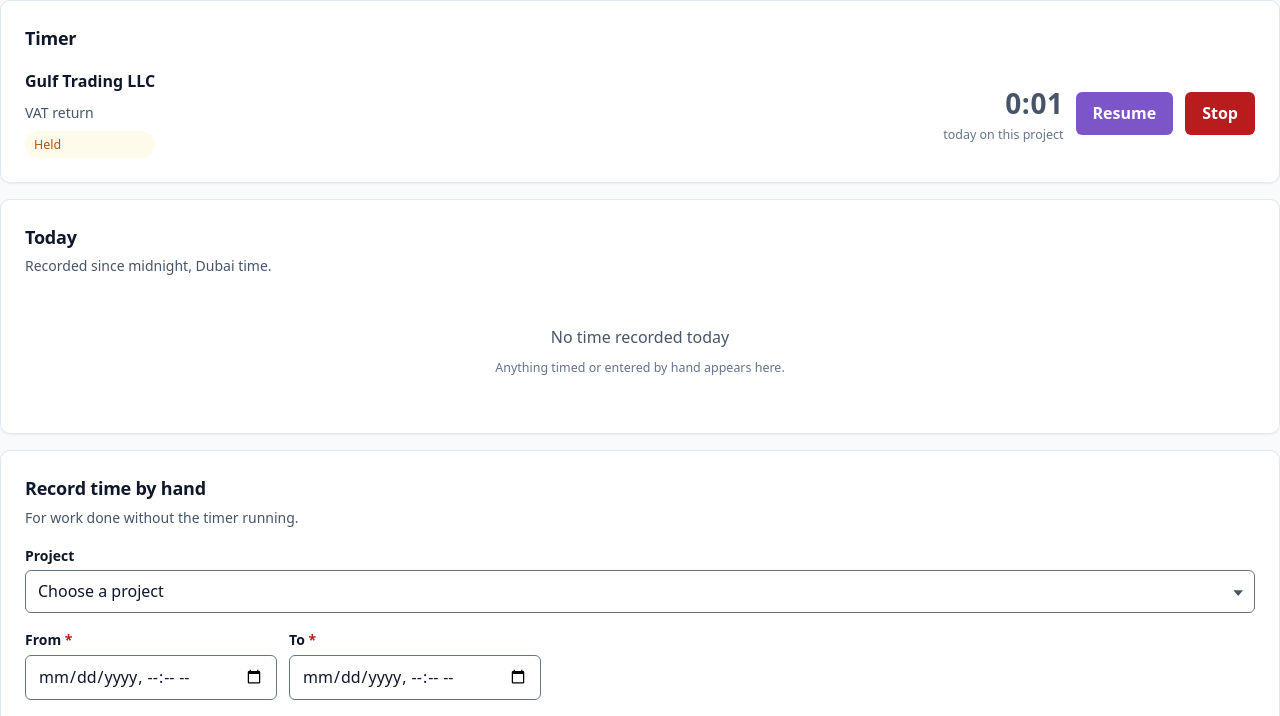
the timer screen › resumes through the server
Click the button "Resume" at (1124, 113), box [1076, 92, 1173, 135]
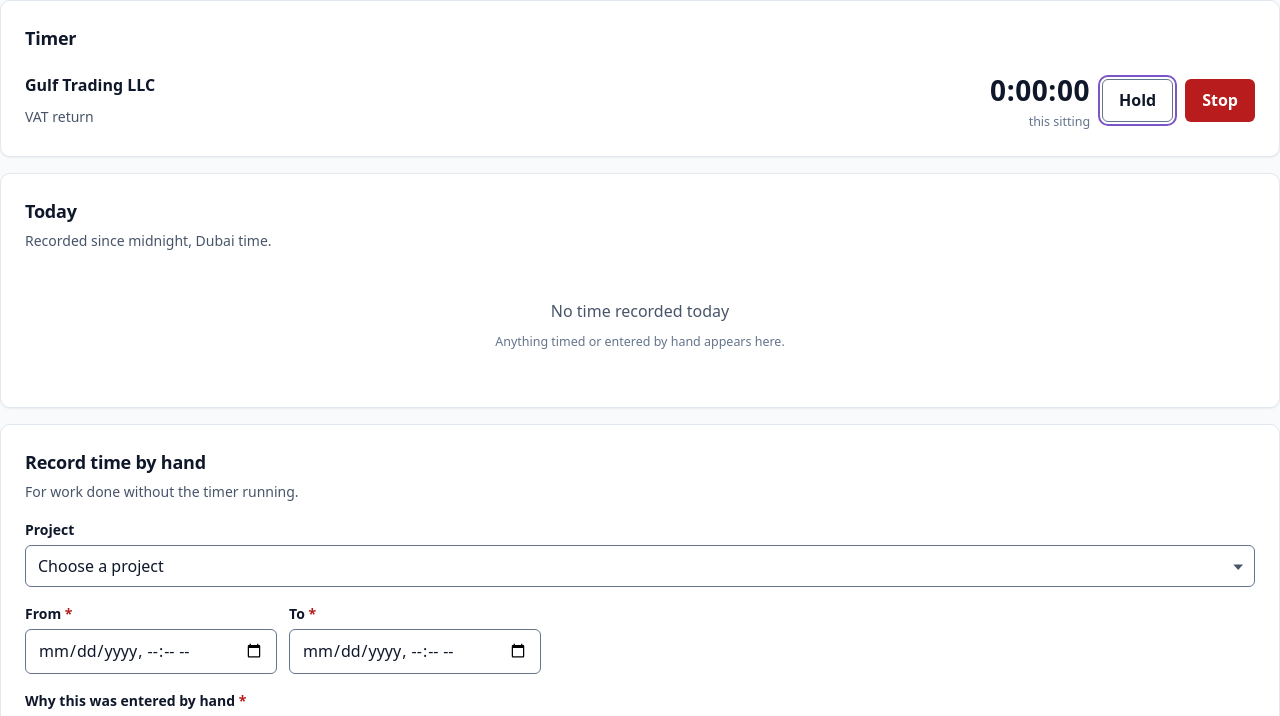
Expected: the button "Hold" is shown, [1102, 79, 1173, 122]
